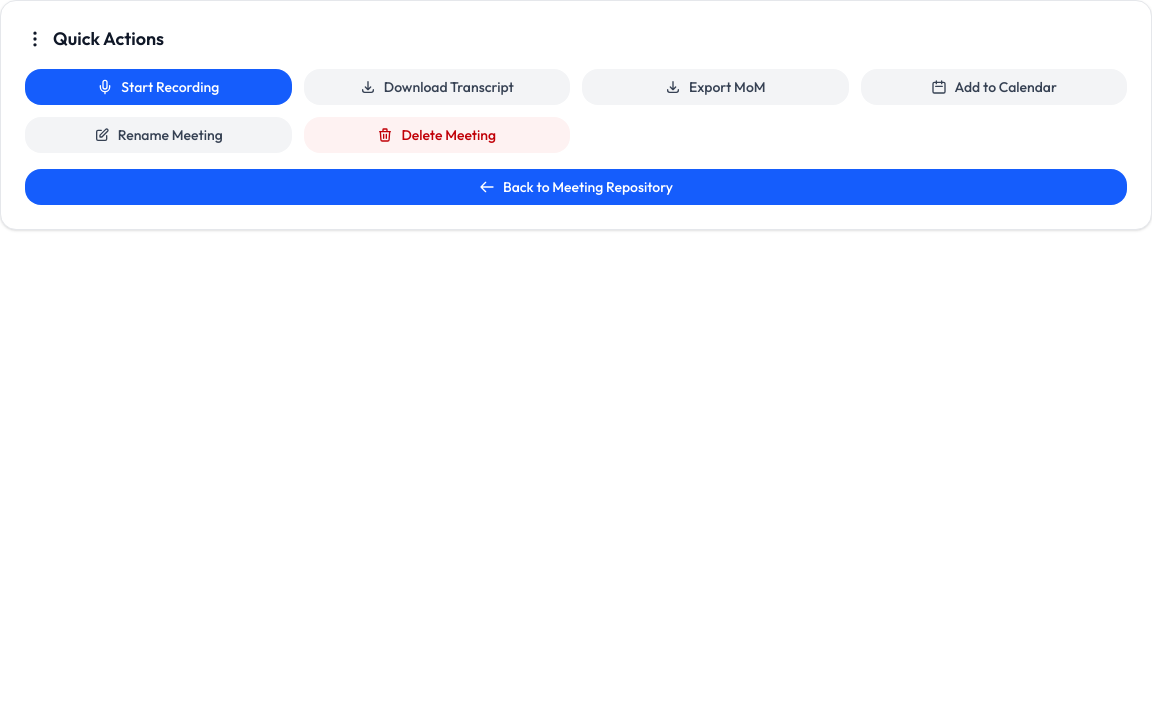
Scenario: Meeting Delete & Rename Modals - Accessibility & Dark Mode (#838) › closes Delete Modal on Escape key press and backdrop click
# Open Delete Modal
Click the button "Delete Meeting" at (437,135), box [304,117,570,153]
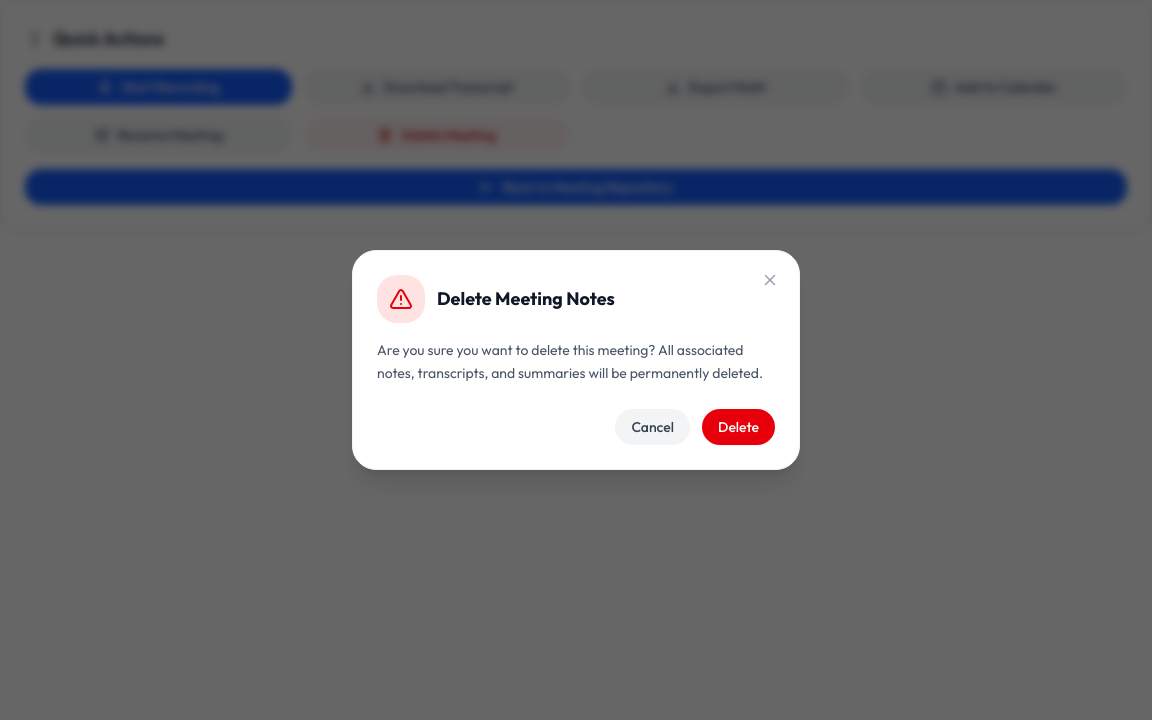
Result: the dialog is shown
# Escape Key press (ConfirmModal uses document listener)
Press Escape
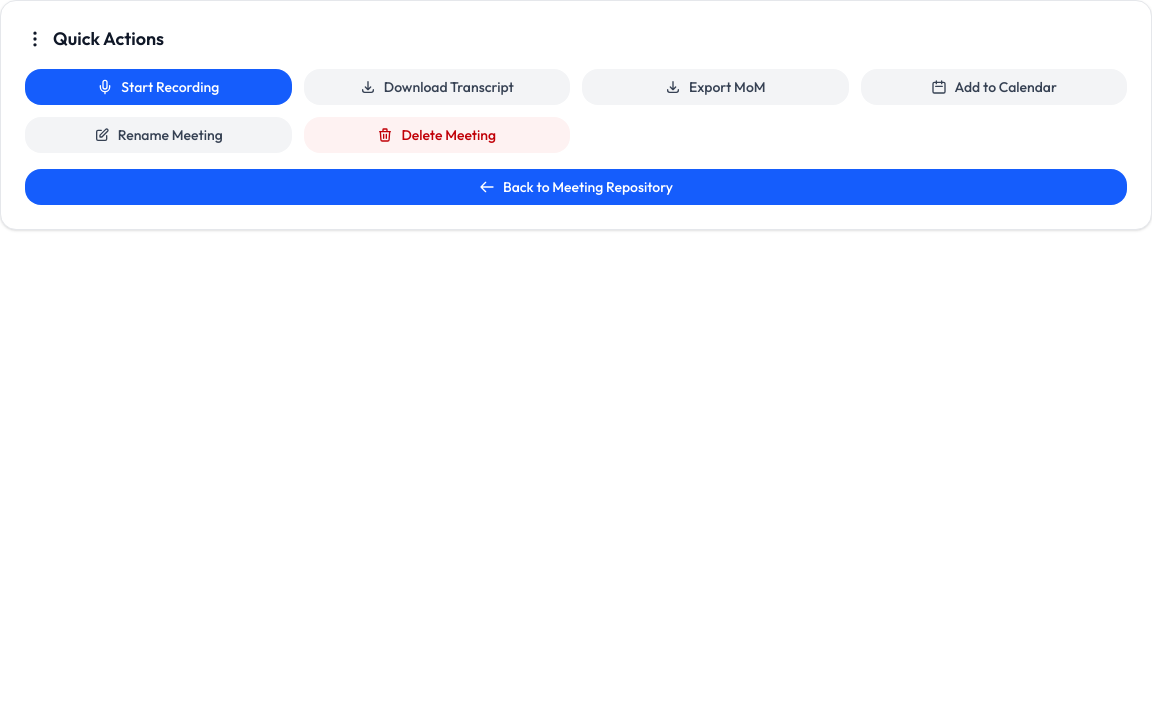
Result: the dialog is gone
# Re-open and click backdrop
Click the button "Delete Meeting" at (437,135), box [304,117,570,153]
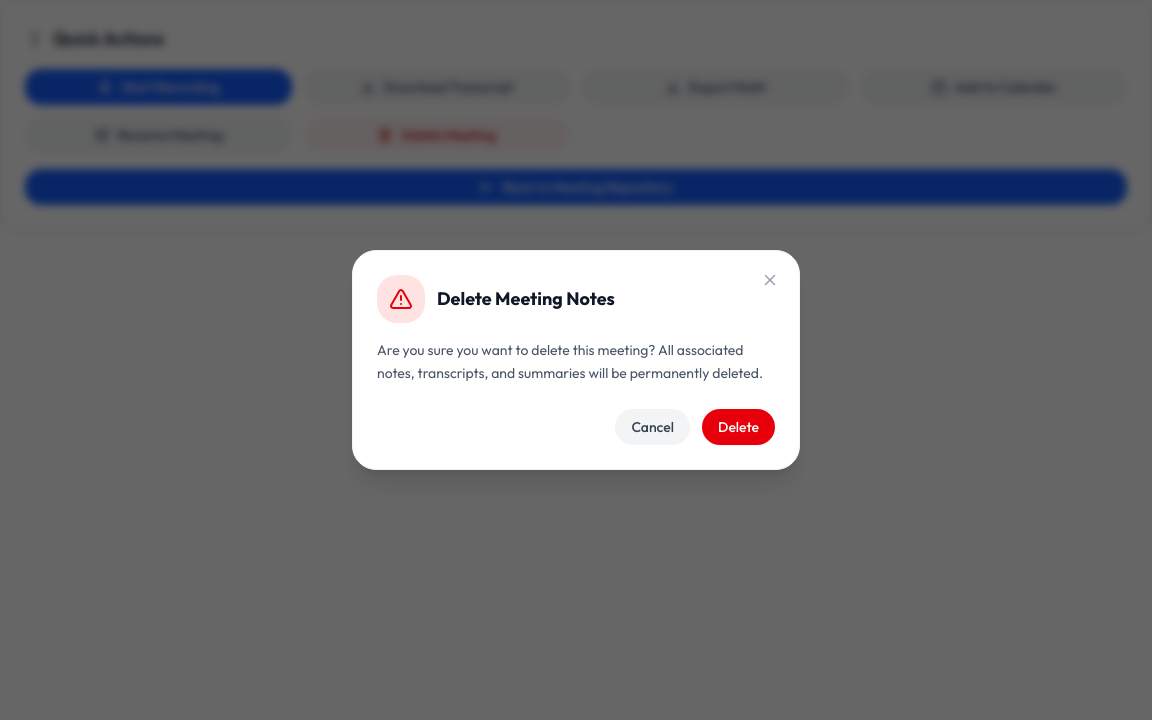
Click the dialog at (69,360), box [0,0,1151,719]
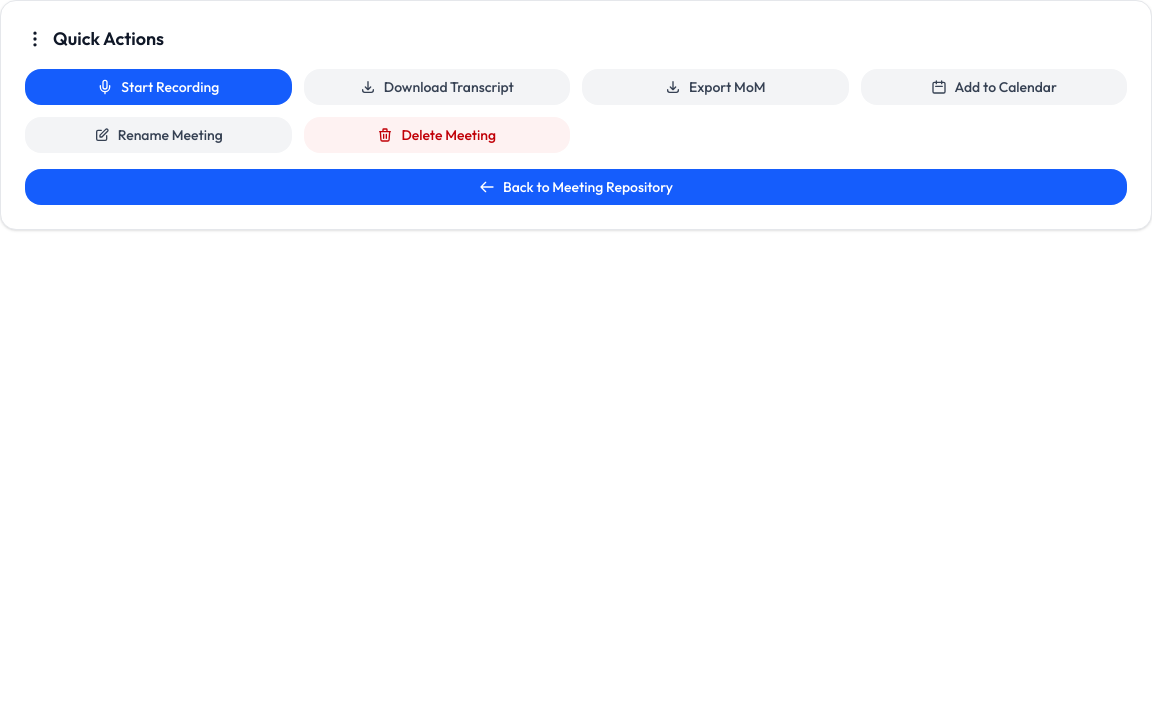
Result: the dialog is gone
